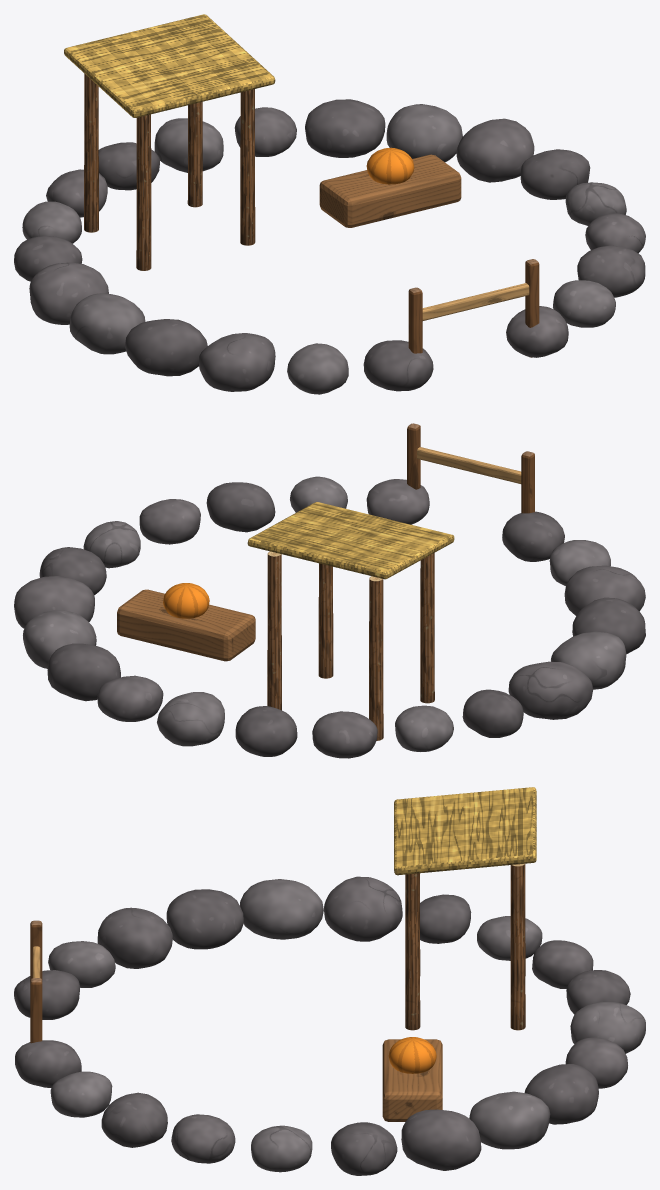
The model's file is tortoise_pen.glb.
The picture shows the model from 3 angles, top to bottom: view 1: azimuth 30°, elevation 25°; view 2: azimuth 150°, elevation 25°; view 3: azimuth 270°, elevation 25°; orthographic projection. The views are drawn at different scales.
Visible parts, largest first — view 1: TortoisePen; view 2: TortoisePen; view 3: TortoisePen.
Boxes of the visible parts, x1=… form: TortoisePen: x1=14, y1=14, x2=645, y2=394; TortoisePen: x1=14, y1=423, x2=645, y2=758; TortoisePen: x1=14, y1=787, x2=645, y2=1175.
Size of the model in its own units: 4.28 by 1.39 by 4.2.
Materials: 1 (1 with a texture image).
